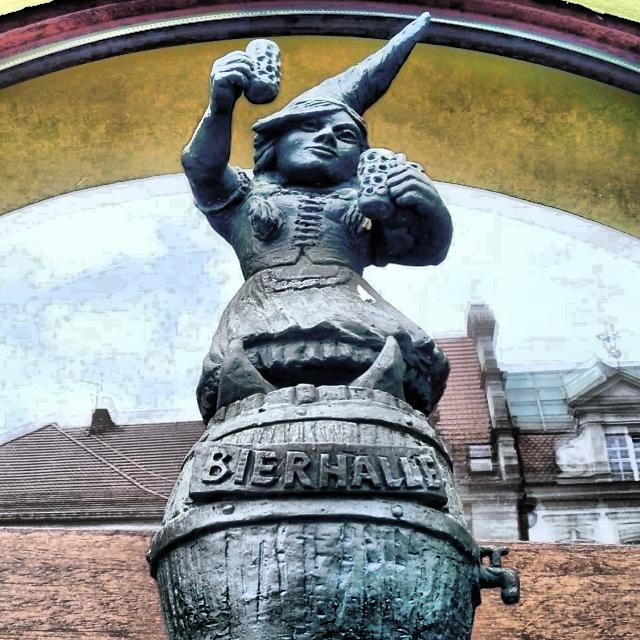Bawarka: (149, 14, 519, 640)
